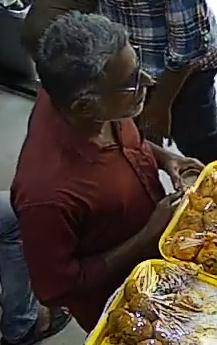no_apron: (55, 51, 188, 291)
